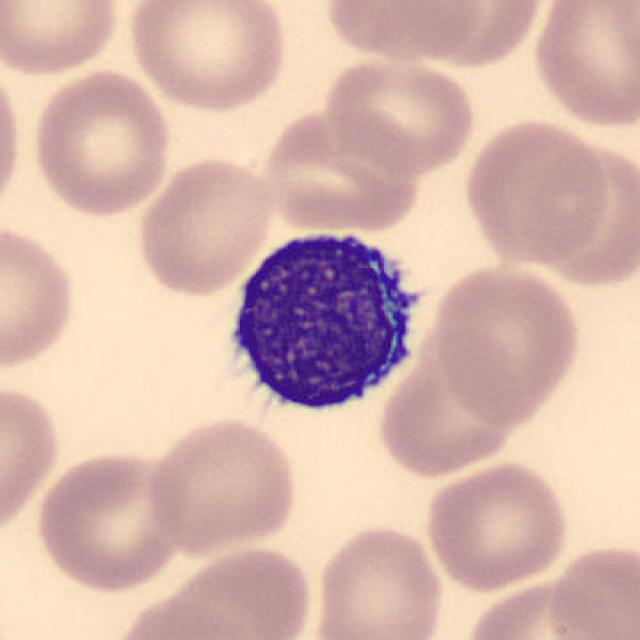Lymphocyte: (208, 217, 436, 427)
RBC: (428, 259, 585, 429), (461, 115, 615, 268), (142, 412, 302, 556), (32, 446, 185, 594), (27, 65, 174, 219), (258, 103, 427, 235), (134, 153, 278, 298), (422, 458, 572, 594), (320, 51, 478, 176), (122, 0, 292, 115), (522, 143, 640, 298), (309, 520, 446, 640), (158, 541, 318, 640), (528, 2, 640, 132), (0, 219, 82, 377), (0, 377, 64, 543), (322, 0, 489, 63), (461, 573, 618, 640), (544, 537, 638, 640), (0, 0, 122, 79), (411, 0, 549, 69), (105, 592, 265, 640), (0, 55, 25, 224)
